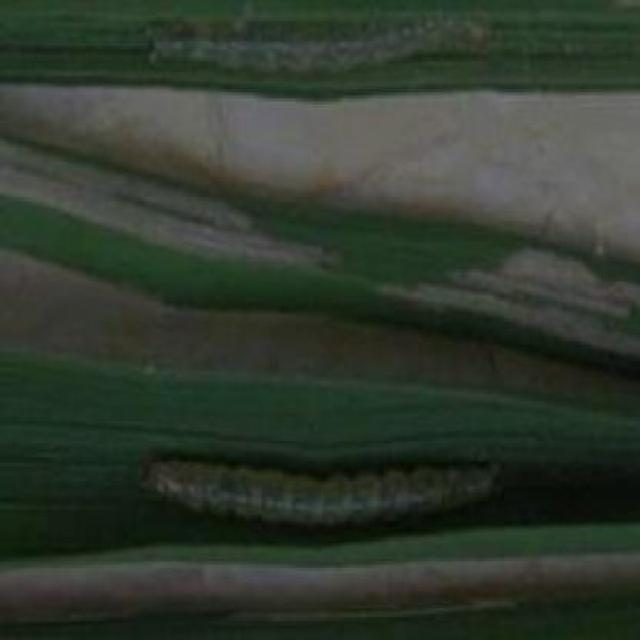leaf-folder: (135, 414, 502, 543), (140, 2, 503, 108)
